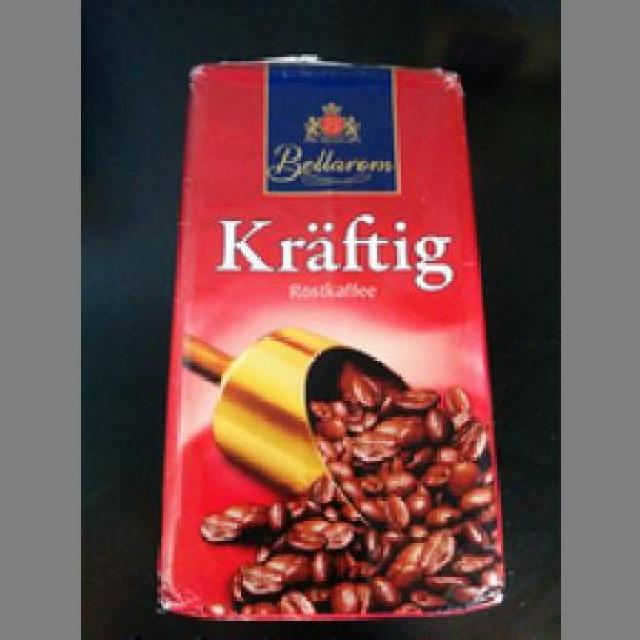Coffee: (160, 54, 503, 620)
